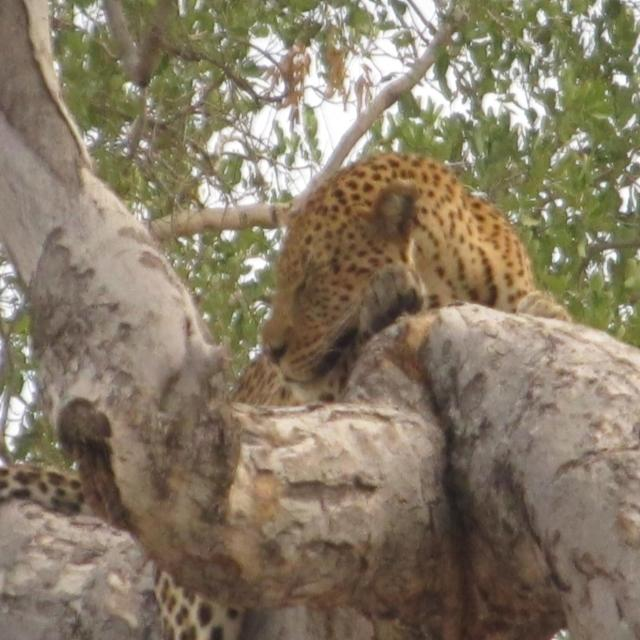Leopard: (247, 134, 572, 470)
